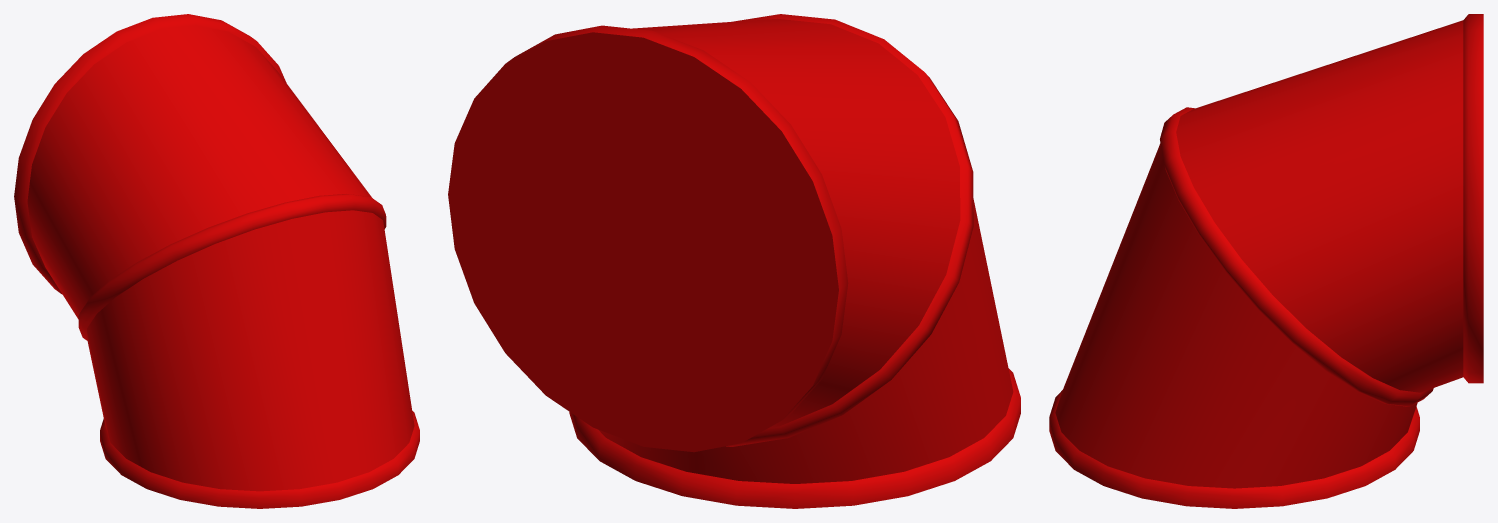
3 renders of one model, left to right at view 1: azimuth 30°, elevation 25°; view 2: azimuth 150°, elevation 25°; view 3: azimuth 270°, elevation 25°, orthographic. The views are drawn at different scales.
Visible parts, largest first — view 1: Mesh; view 2: Mesh; view 3: Mesh.
Boxes of the visible parts, x1,y1,x2,y2 form: Mesh: [14, 14, 419, 508]; Mesh: [448, 14, 1020, 508]; Mesh: [1049, 14, 1483, 508].
Size of the model in its own units: 0.4303 by 0.5 by 0.4924.
